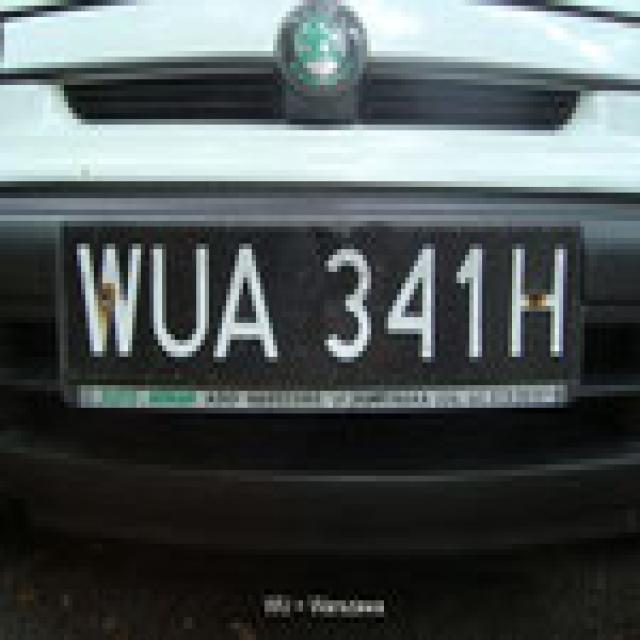pl_license_plate: (59, 221, 572, 374)
